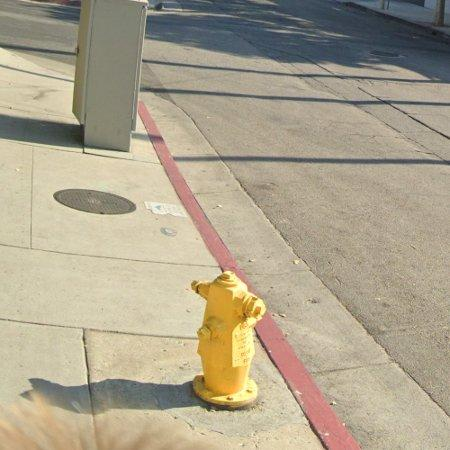a fire hydrant: (192, 272, 267, 410)
